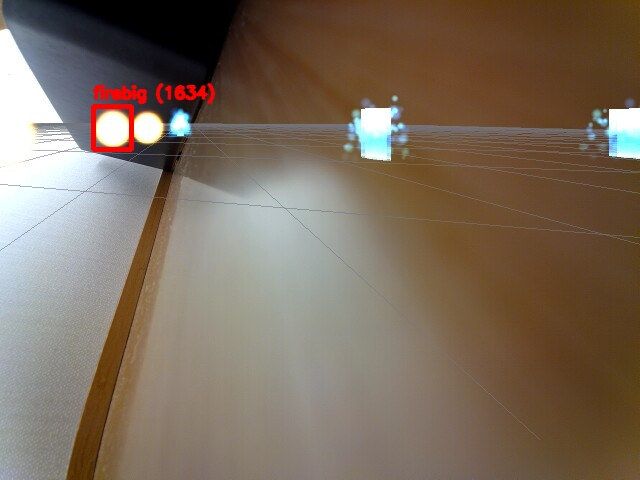firebig: (93, 106, 131, 149)
